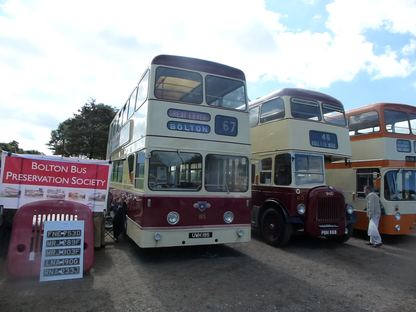bus: (105, 53, 258, 262), (231, 85, 352, 242), (314, 100, 416, 238)
